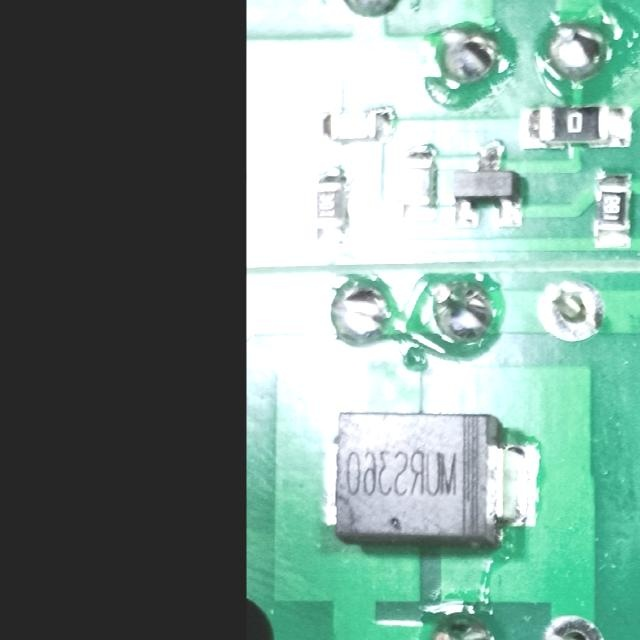chip-resistor: (518, 104, 634, 149), (593, 166, 631, 250), (402, 138, 439, 222), (314, 165, 350, 247), (319, 105, 395, 143)
diode: (323, 406, 541, 545)
transistor: (452, 141, 524, 228)
